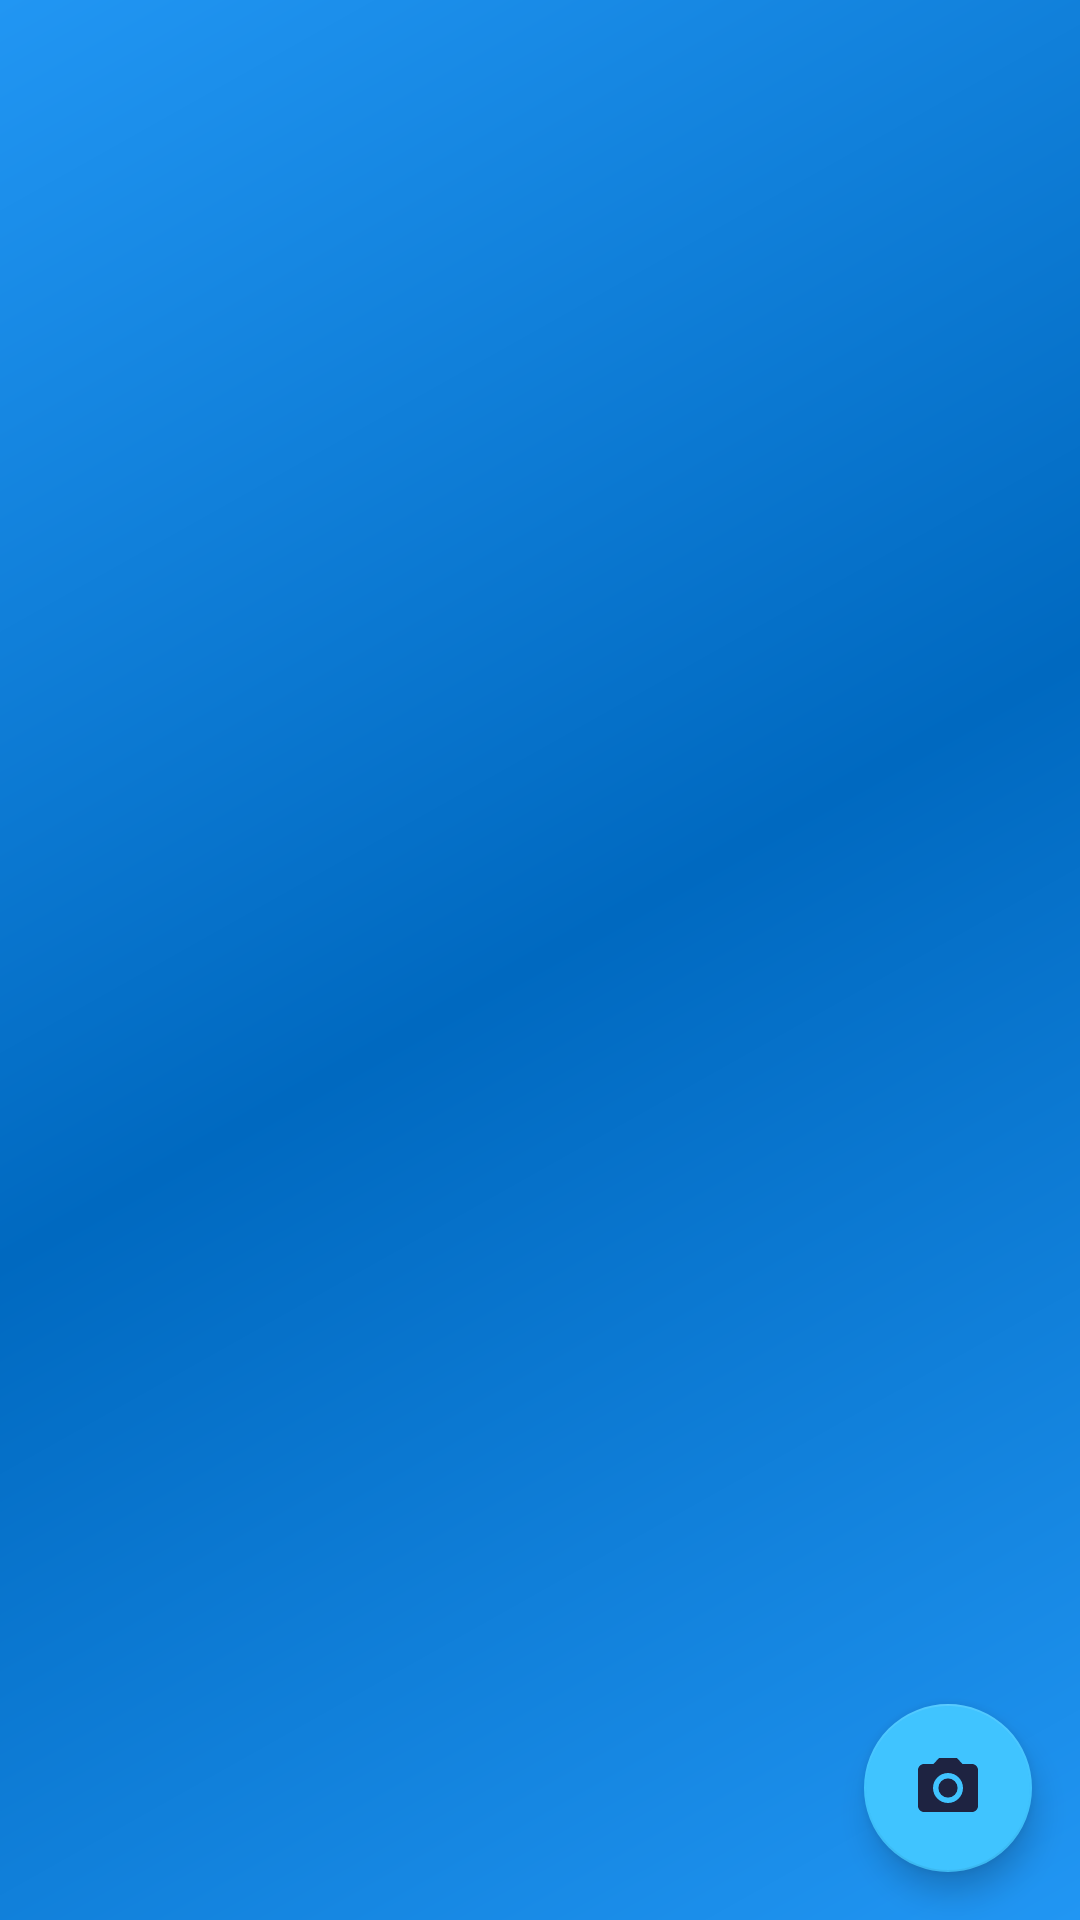

Where icons sit on this 1080×1920 app screen, as BBox(x1, y1, x2, y2):
photo camera: BBox(864, 1704, 1032, 1872)
